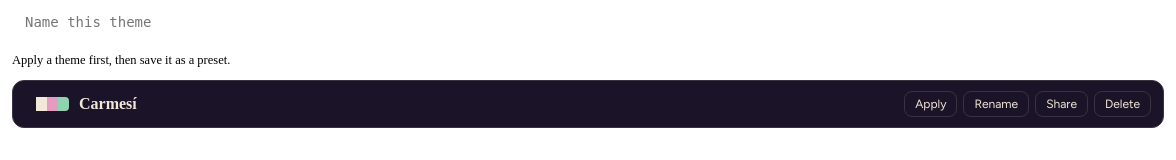
PresetLibrary › clicking Apply PATCHes /api/presets/<id> with {setActive:true} and applies the theme (data-theme=custom)
Click the button "Apply" at (931, 104), box [904, 91, 958, 117]
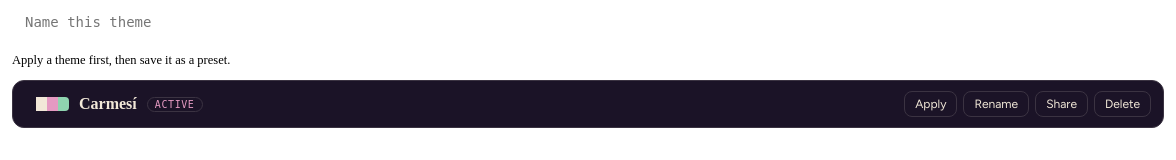
Now the list item with class "tm-preset-row" shows "Active", box [155, 98, 194, 110]
